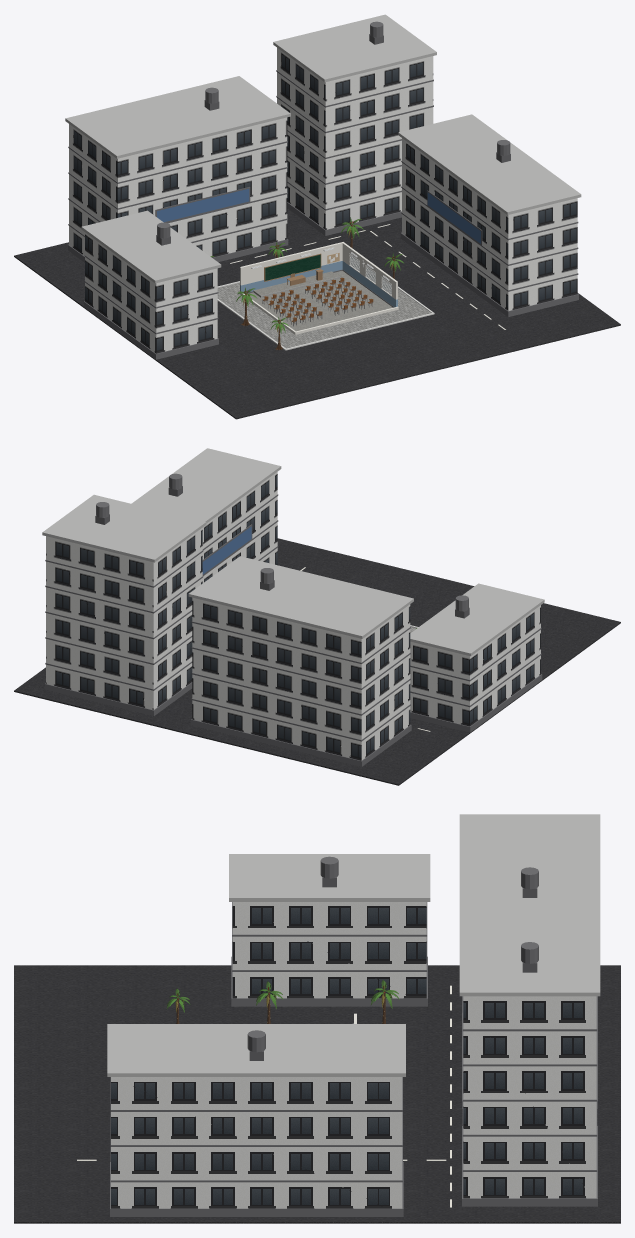
Rendered from class-hall.glb.
3 views of the same model, one above another, from view 1: azimuth 30°, elevation 25°; view 2: azimuth 150°, elevation 25°; view 3: azimuth 270°, elevation 25° (orthographic). The views are drawn at different scales.
Visible parts, largest first — view 1: WhiteFacade, Asphalt, Roof, Charcoal, Terrazzo, CementPavers, ClassPlaster, SignBoard0, Chalkboard, Kerb, SignBoard1, Wall; view 2: WhiteFacade, Roof, Asphalt, Charcoal, SignBoard1; view 3: WhiteFacade, Asphalt, Roof, Charcoal, ChairMetal.
Part boxes in pixels (bbox=[...]): WhiteFacade: bbox=[69, 48, 577, 353]; Asphalt: bbox=[14, 208, 620, 419]; Roof: bbox=[65, 14, 581, 283]; Charcoal: bbox=[68, 21, 578, 359]; Terrazzo: bbox=[247, 270, 392, 331]; CementPavers: bbox=[217, 282, 431, 348]; ClassPlaster: bbox=[240, 242, 398, 334]; SignBoard0: bbox=[157, 188, 249, 222]; Chalkboard: bbox=[265, 254, 320, 280]; Kerb: bbox=[217, 281, 434, 350]; SignBoard1: bbox=[427, 192, 480, 243]; Wall: bbox=[240, 261, 342, 292]; WhiteFacade: bbox=[46, 472, 540, 760]; Roof: bbox=[42, 448, 544, 656]; Asphalt: bbox=[14, 538, 620, 785]; Charcoal: bbox=[44, 473, 542, 766]; SignBoard1: bbox=[202, 526, 251, 574]; WhiteFacade: bbox=[111, 902, 596, 1208]; Asphalt: bbox=[14, 965, 620, 1223]; Roof: bbox=[107, 814, 600, 1076]; Charcoal: bbox=[110, 856, 597, 1216]; ChairMetal: bbox=[249, 877, 537, 1060].
Size of the model in its own units: 50.3 by 21.9 by 50.
Materials: 26 (6 with a texture image).
